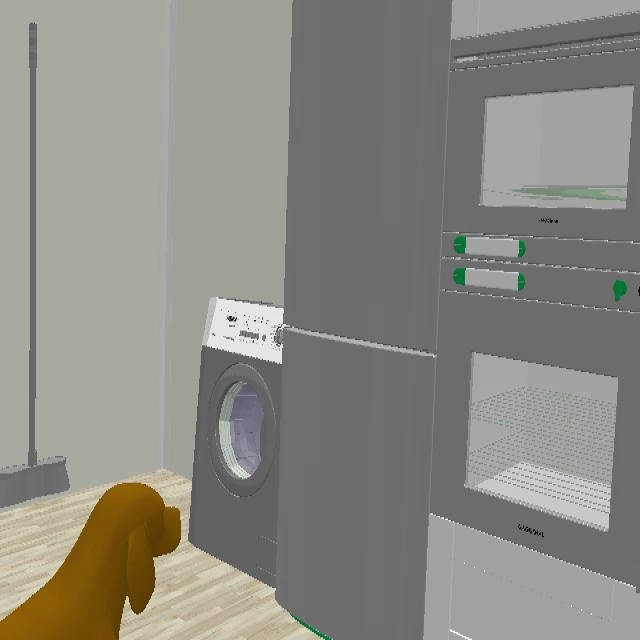fridge: (276, 0, 451, 638)
microwave: (444, 13, 640, 269)
oven: (431, 257, 640, 584)
